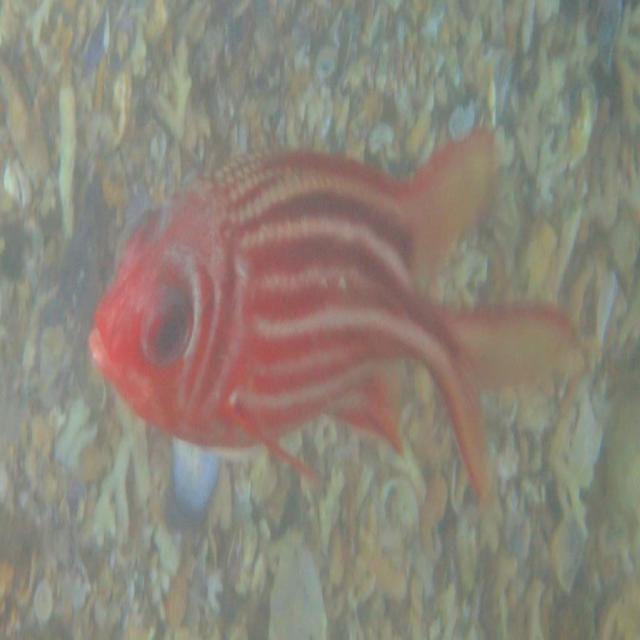Asker Baligi: (82, 109, 583, 515)
